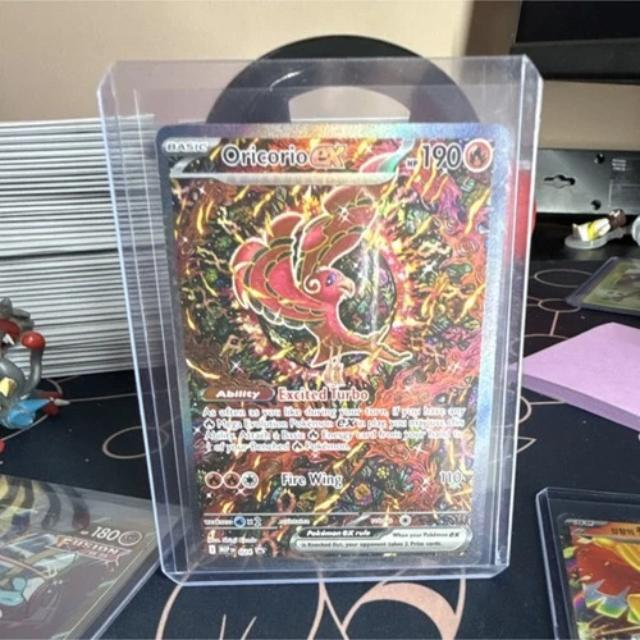Card: (147, 117, 517, 574)
Name: (218, 137, 359, 176)
